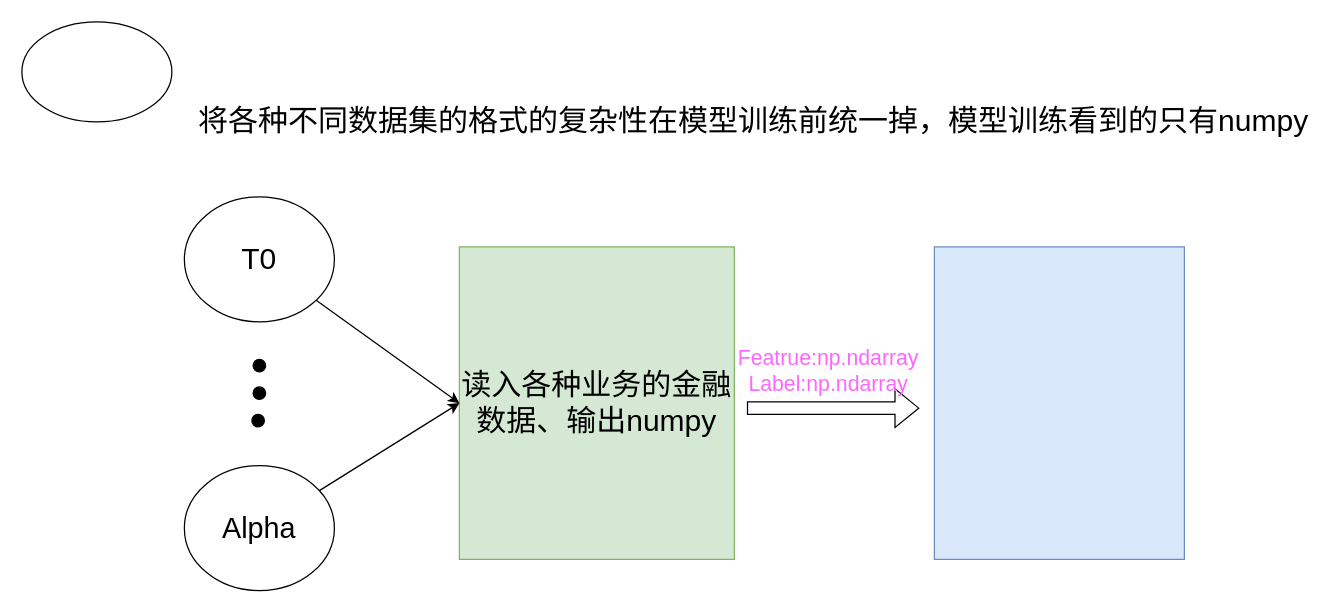
This 1344x613 diagram has some shape labels left out. The centre of each missing label's shape, as x and y in pixels:
"截图占位符" belongs at [96,71].
"模型训练" belongs at [1058,402].
